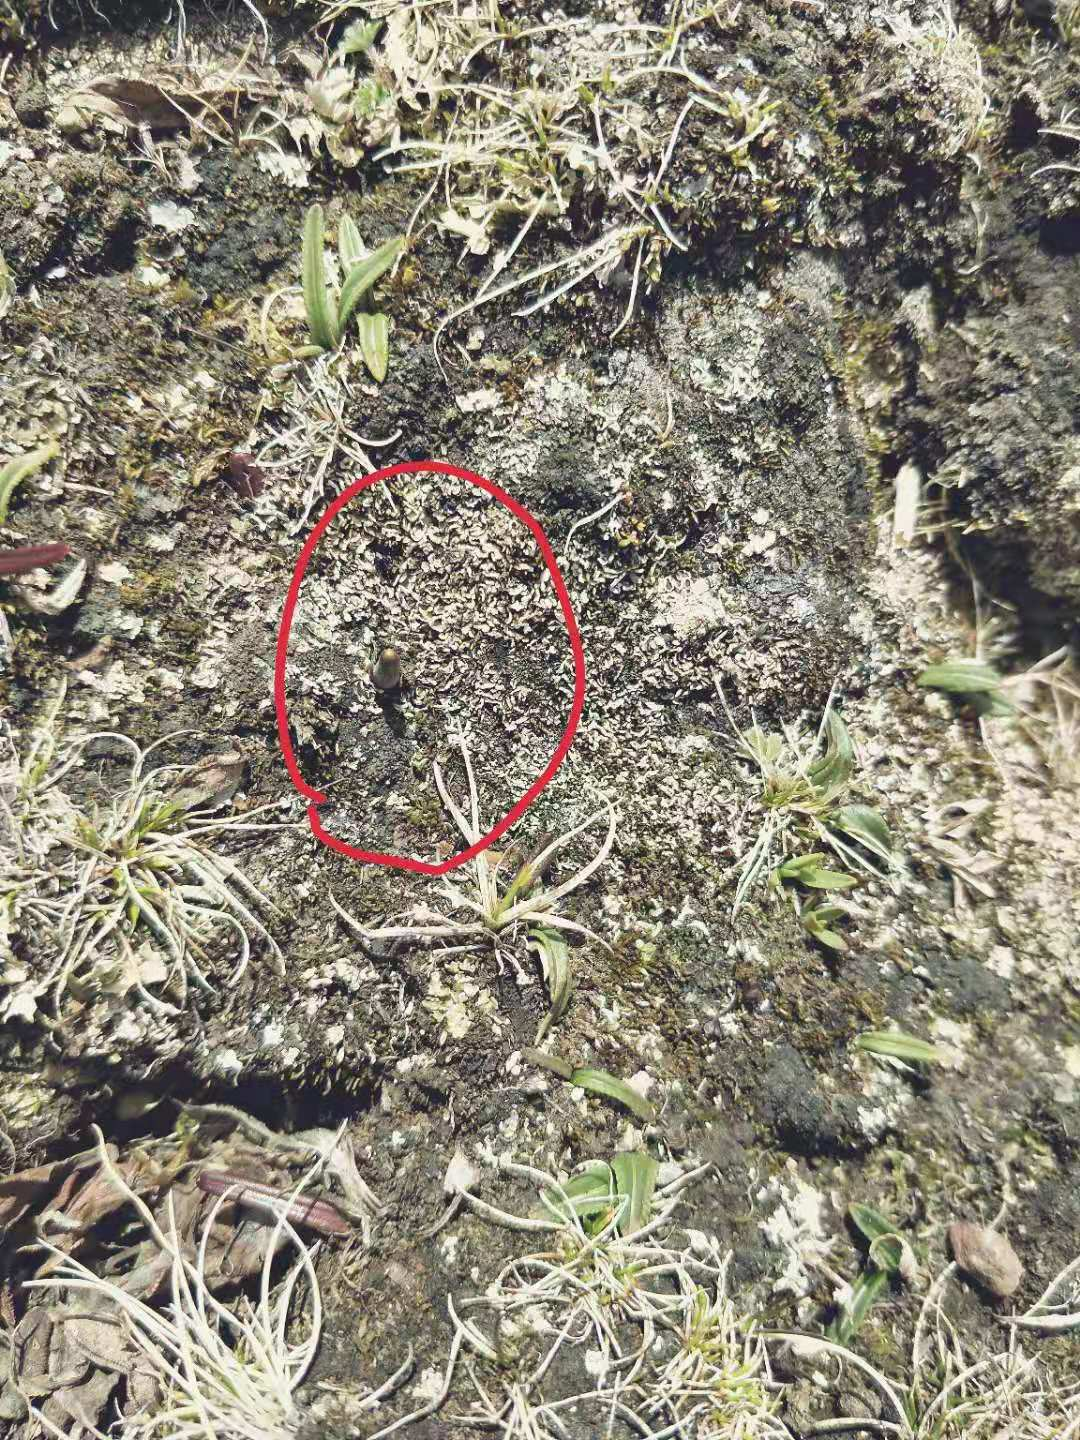cpf: (364, 646, 406, 700)
